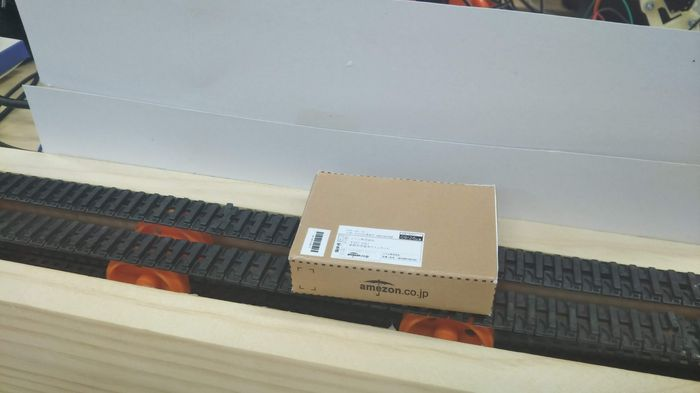box2: (281, 158, 511, 323)
